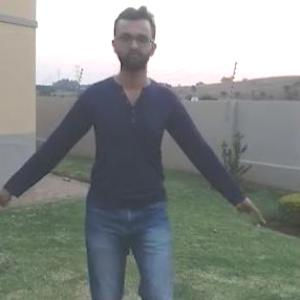land: (18, 24, 238, 298)
